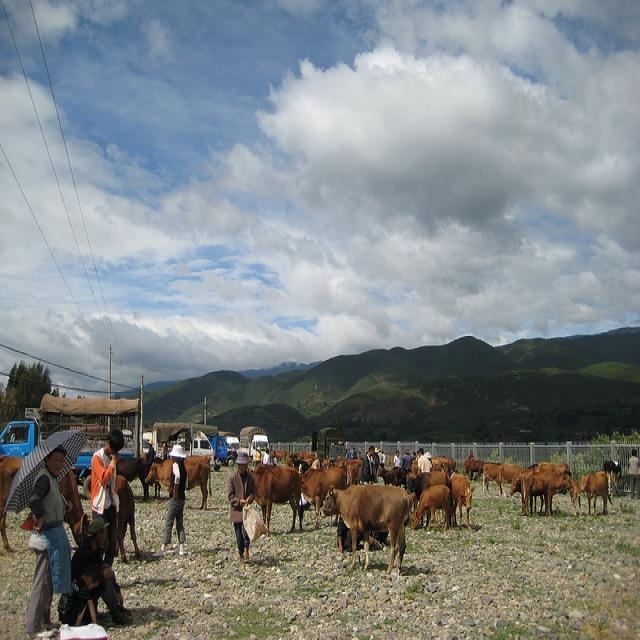cow: (317, 481, 408, 576), (246, 461, 302, 531), (145, 453, 212, 508), (297, 465, 347, 528), (405, 468, 450, 527), (519, 468, 571, 515), (409, 483, 451, 528), (508, 467, 546, 512), (579, 469, 610, 515), (449, 472, 472, 529), (496, 462, 523, 498), (483, 463, 496, 488)
